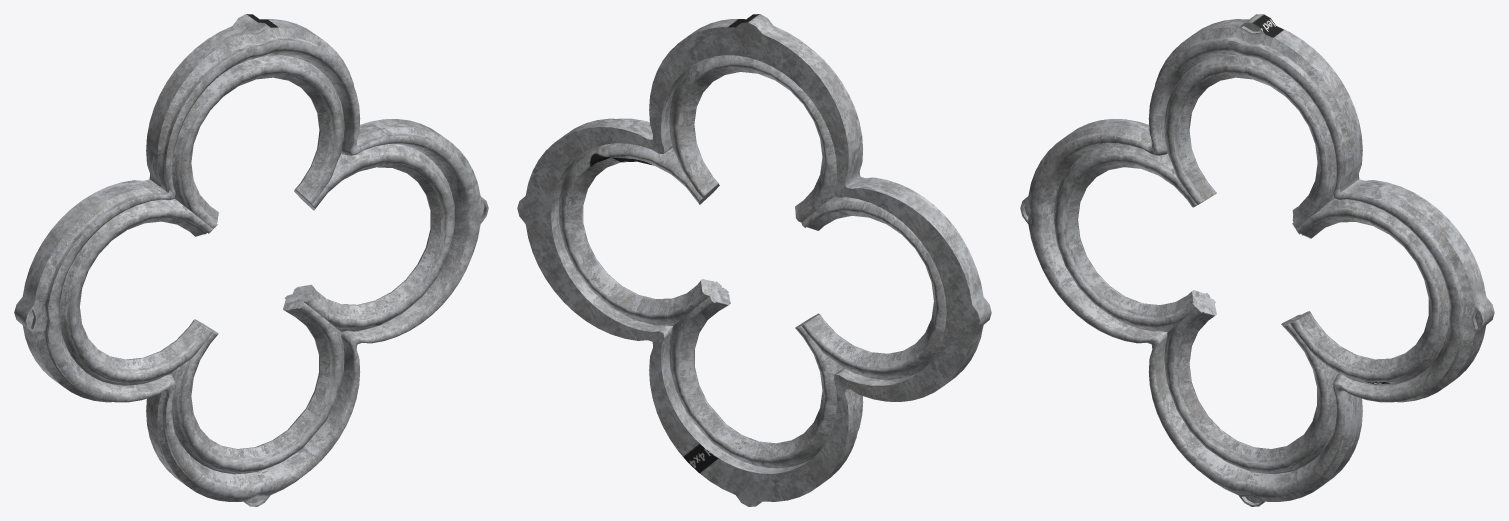
Rendered from MInWindow.fbx.
The picture shows the model from 3 angles, left to right: view 1: azimuth 30°, elevation 25°; view 2: azimuth 150°, elevation 25°; view 3: azimuth 330°, elevation 25°; orthographic projection.
Visible parts, largest first — view 1: MinWindow; view 2: MinWindow; view 3: MinWindow.
Boxes of the visible parts, <box> form: MinWindow: <box>14,14,488,506</box>; MinWindow: <box>517,14,991,506</box>; MinWindow: <box>1020,14,1494,506</box>.
Size of the model in its own units: 121 by 121 by 8.27.
